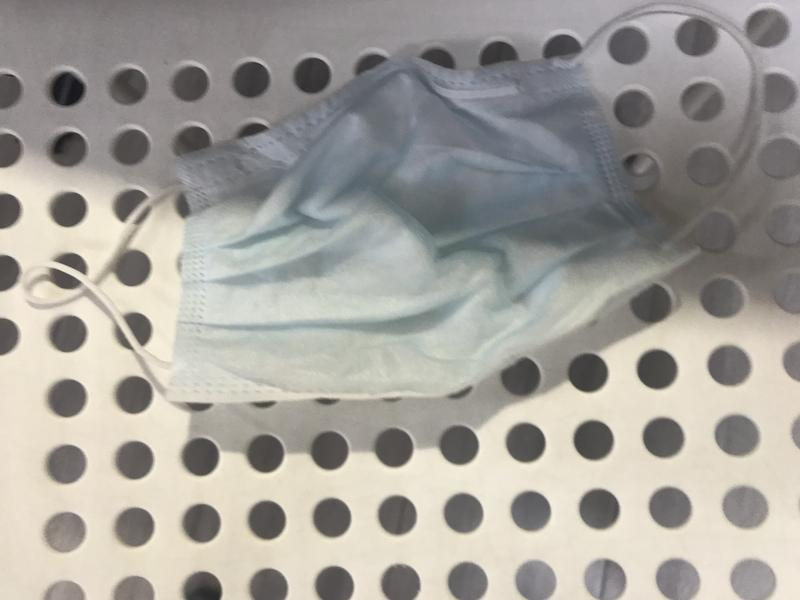medical_mask: (19, 5, 764, 404)
